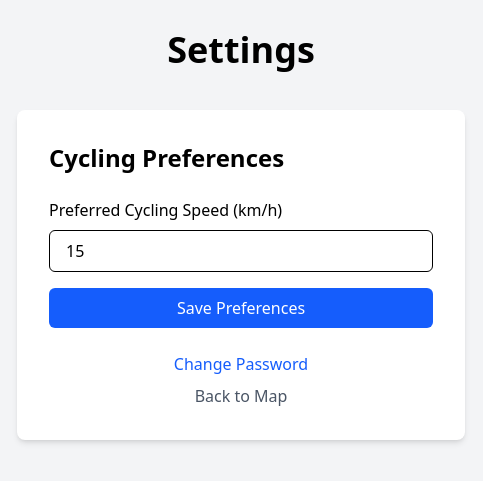
Test: Settings Page › successfully saves cycling speed
Replace the text in the number field labelled "Preferred Cycling Speed (km/h)" with "22". click: (241, 251)
box: [49,230,433,272]
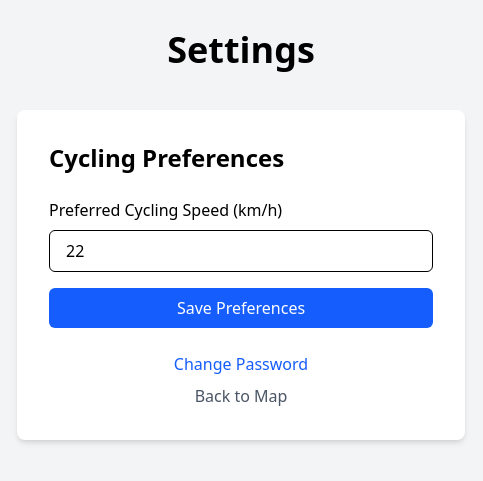
Click the button "Save Preferences". click: (241, 308)
box: [49,288,433,328]
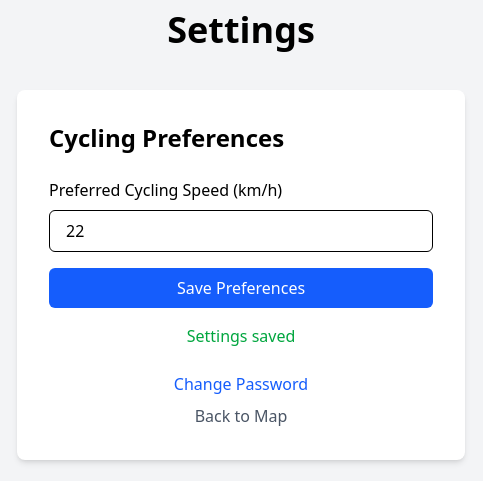
Result: the text "Settings saved" is shown at [187,325,295,347]
